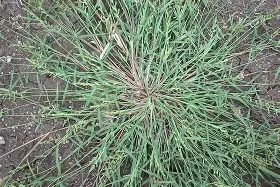weed: (22, 0, 279, 186)
